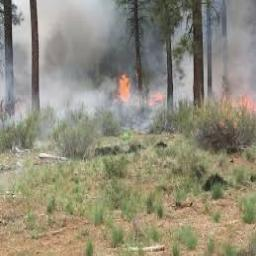Heavy smoke: (0, 0, 256, 141)
Small fire: (87, 59, 256, 131)
